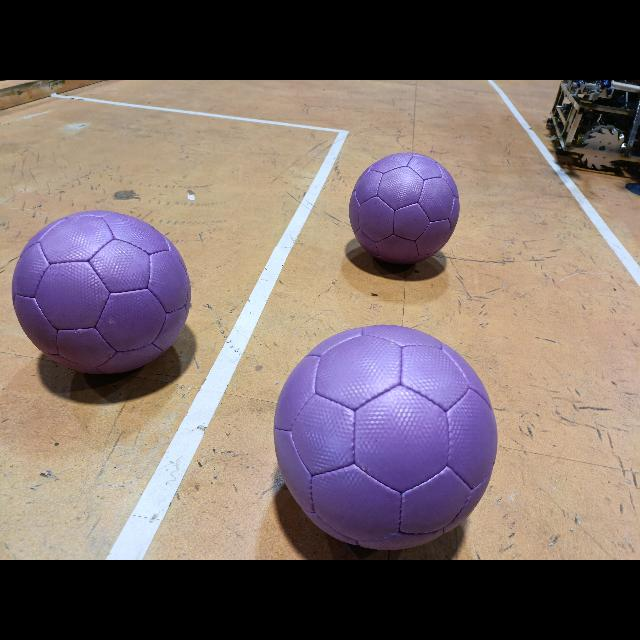P: (273, 324, 497, 550), (12, 210, 192, 376), (348, 152, 459, 264)
